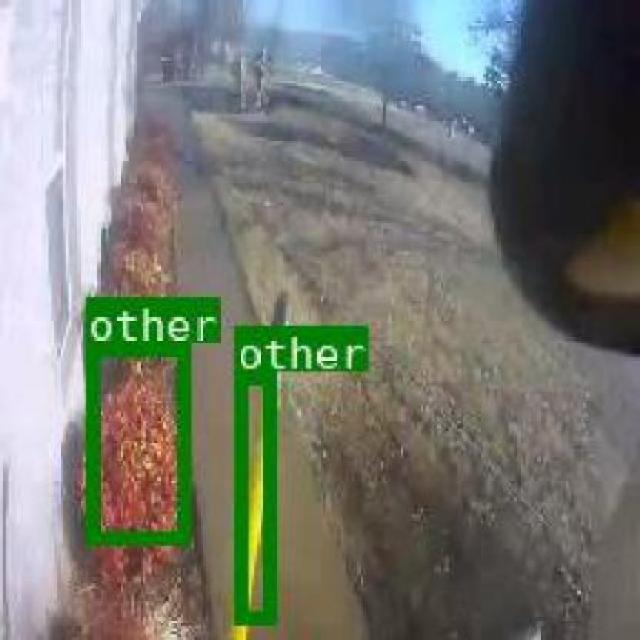Smoke: (82, 342, 188, 542), (232, 370, 274, 622)
